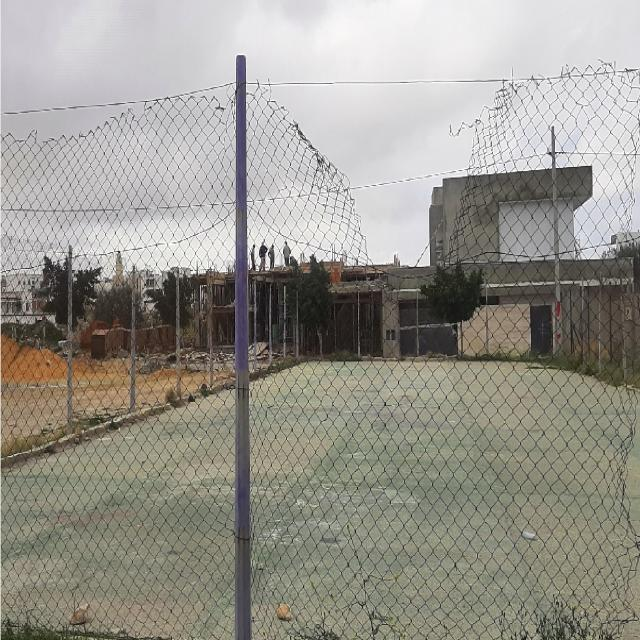fence line: (274, 86, 525, 290), (621, 424, 640, 539)
